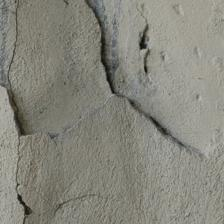Crack: (55, 84, 105, 210), (27, 0, 119, 58), (123, 50, 224, 94), (61, 101, 109, 172), (22, 77, 47, 105), (90, 153, 112, 170)
